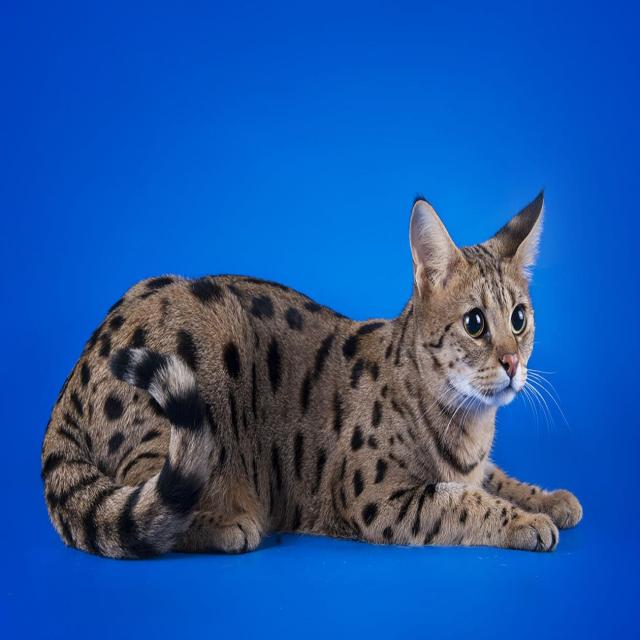Savannah: (39, 182, 588, 567)
